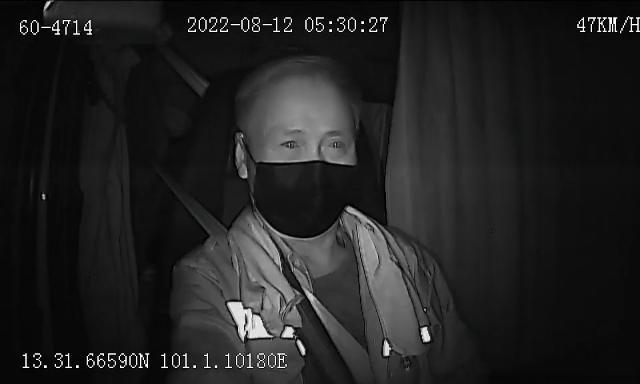SafeDriving: (318, 131, 352, 159), (272, 132, 308, 155)
Seatbelt: (154, 166, 380, 384)
